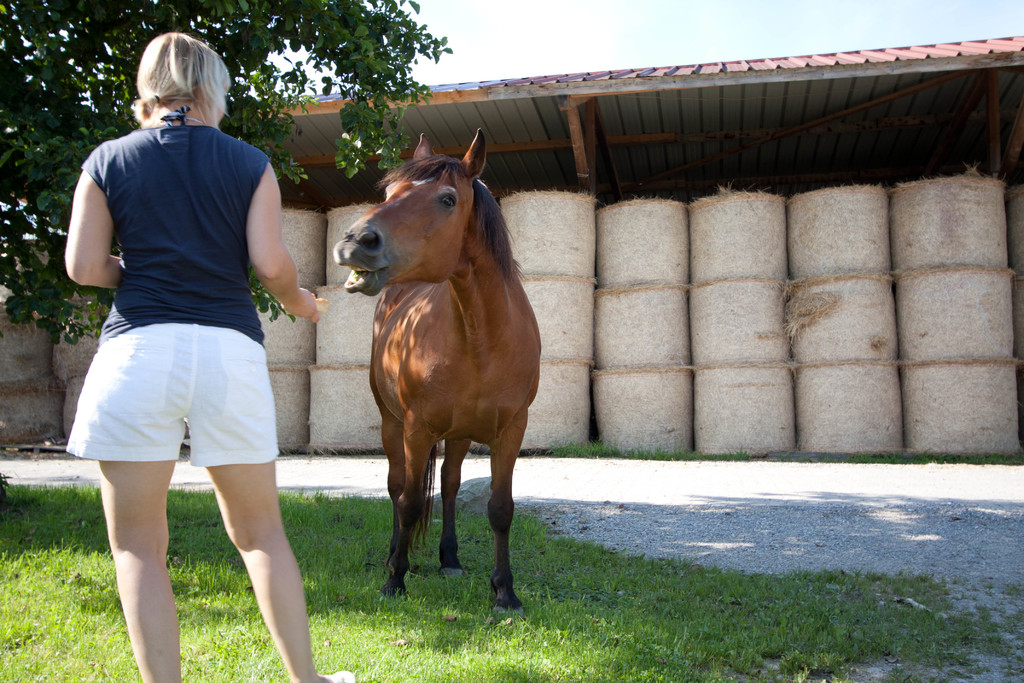horse: (336, 124, 545, 619)
